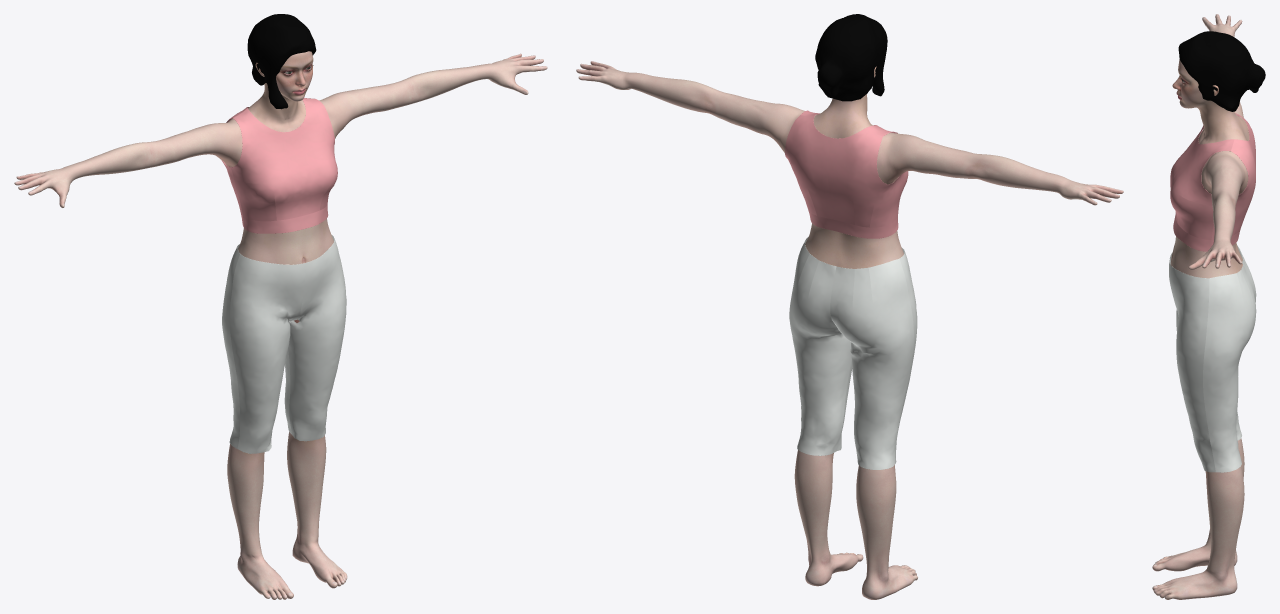
File: Dynamic_2.obj
3 views of the same model, side by side, from view 1: azimuth 30°, elevation 25°; view 2: azimuth 150°, elevation 25°; view 3: azimuth 270°, elevation 25° (orthographic). The views are drawn at different scales.
Bounding box in the file's own units: 1746 × 1760 × 330.
